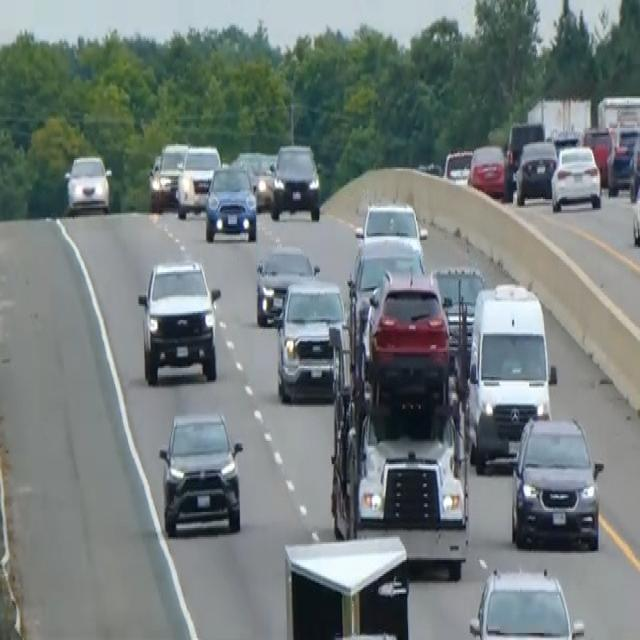car: (509, 413, 604, 551), (363, 266, 452, 411), (157, 407, 244, 537), (136, 256, 221, 384), (274, 274, 346, 404), (467, 560, 585, 638), (348, 233, 424, 323), (254, 242, 316, 327), (430, 261, 486, 354), (355, 197, 427, 258), (204, 162, 257, 242), (270, 140, 321, 220), (550, 142, 602, 212), (175, 142, 221, 219), (503, 118, 545, 196), (64, 151, 112, 213), (514, 137, 557, 204), (232, 149, 276, 210), (149, 140, 188, 208), (467, 142, 506, 198), (581, 125, 613, 183), (606, 142, 634, 196), (443, 148, 472, 183), (147, 151, 162, 210), (630, 169, 639, 249), (629, 130, 639, 199)
lorry: (328, 268, 472, 582)
minibus: (463, 277, 556, 471)
truck: (282, 534, 412, 638)
